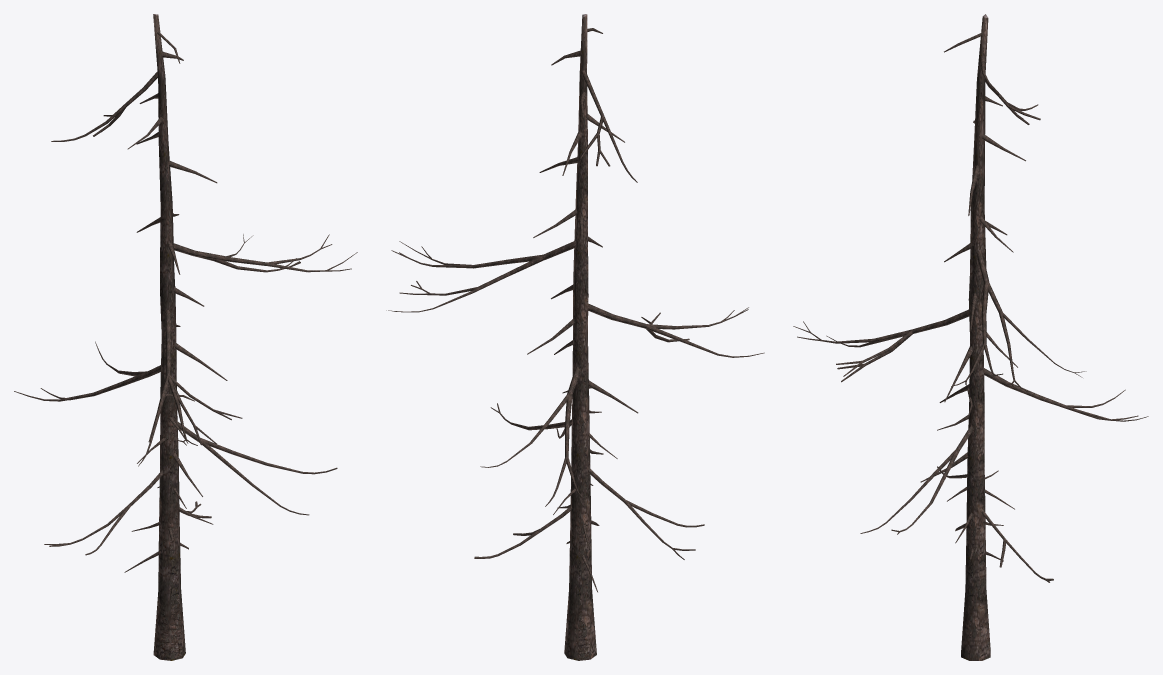
File: dead_conifer_0_lod1.glb
3 views of the same model, side by side, from view 1: azimuth 30°, elevation 25°; view 2: azimuth 150°, elevation 25°; view 3: azimuth 270°, elevation 25° (orthographic).
Parts seen in each view (by area): view 1: Coniferous Dead Tree; view 2: Coniferous Dead Tree; view 3: Coniferous Dead Tree.
Part boxes in pixels (x1,y1,x2,y2): Coniferous Dead Tree: (14,14,357,660); Coniferous Dead Tree: (386,14,764,660); Coniferous Dead Tree: (793,14,1148,660).
Bounding box in the file's own units: 7.93 × 16.1 × 8.16.
1 material, 1 textured.
